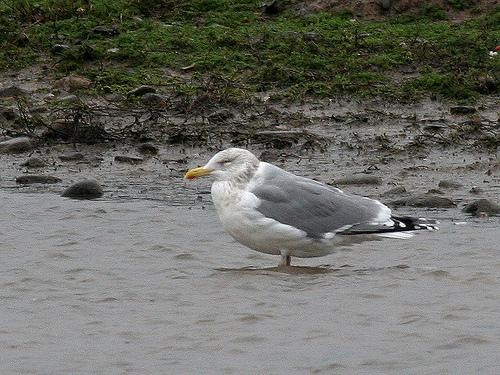bird: (183, 146, 439, 272)
